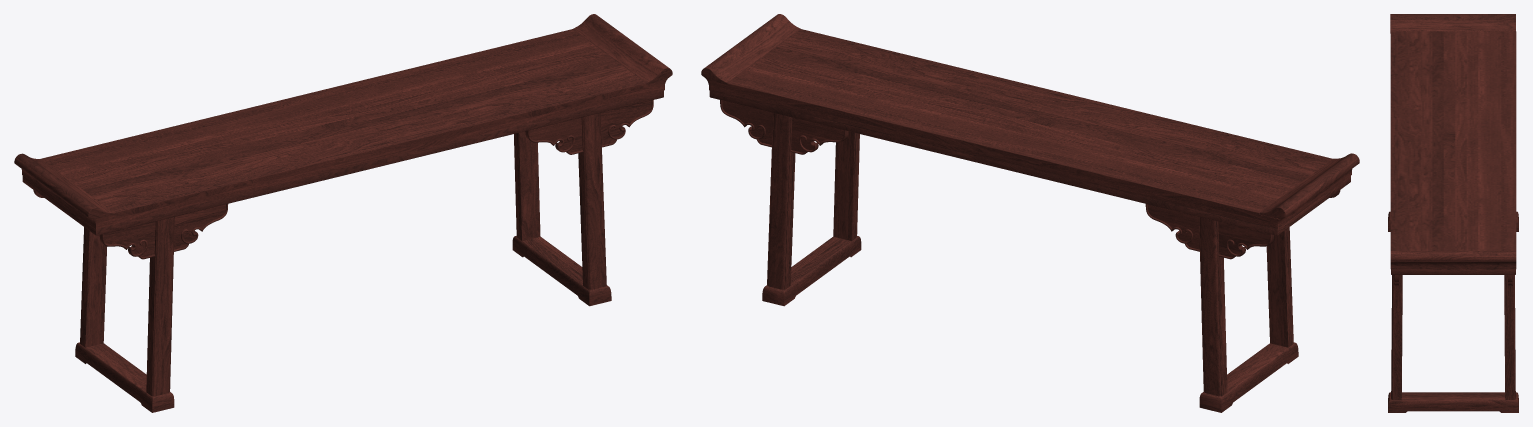
File: QH-高桌子.fbx
3 views of the same model, side by side, from view 1: azimuth 30°, elevation 25°; view 2: azimuth 150°, elevation 25°; view 3: azimuth 270°, elevation 25° (orthographic). The views are drawn at different scales.
Visible parts, largest first — view 1: QH-高桌子; view 2: QH-高桌子; view 3: QH-高桌子.
Part boxes in pixels (<box>): QH-高桌子: <box>14,14,672,412</box>; QH-高桌子: <box>701,14,1359,412</box>; QH-高桌子: <box>1388,14,1518,412</box>.
Bounding box in the file's own units: 2.74 × 0.625 × 0.9743.
